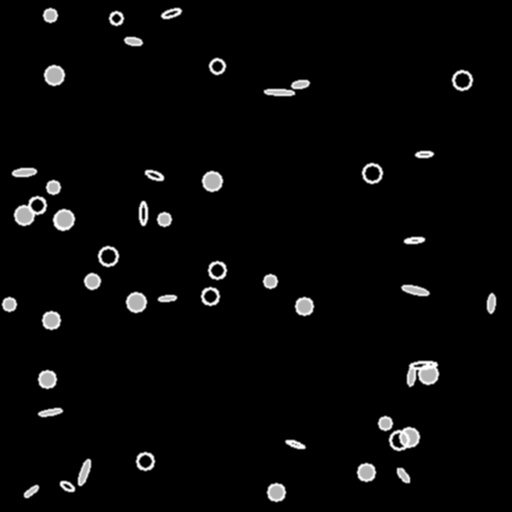pseudomonas: (76, 458, 92, 486), (402, 284, 428, 296), (144, 169, 164, 181), (161, 7, 181, 19), (59, 479, 75, 493), (396, 467, 410, 483), (23, 484, 39, 498), (410, 361, 436, 369), (285, 439, 305, 449), (39, 408, 61, 416), (13, 168, 35, 176), (265, 89, 293, 95), (487, 293, 495, 313), (407, 366, 415, 386), (124, 37, 142, 45), (291, 80, 309, 88), (140, 202, 146, 224), (405, 237, 423, 243), (159, 295, 175, 301), (416, 151, 432, 157)
synechocystis: (400, 428, 418, 446), (15, 206, 33, 224), (54, 211, 72, 229), (419, 365, 437, 383), (203, 172, 221, 190), (127, 293, 145, 311), (453, 71, 471, 89), (45, 66, 63, 84), (55, 210, 73, 228), (99, 247, 117, 265), (363, 164, 381, 182), (390, 431, 408, 449), (202, 288, 218, 304), (268, 484, 284, 500), (358, 464, 374, 480), (39, 371, 55, 387), (29, 197, 45, 213), (296, 298, 312, 314), (209, 262, 225, 278), (137, 453, 153, 469), (43, 312, 59, 328), (210, 59, 224, 73), (85, 274, 99, 288), (47, 181, 59, 193), (3, 298, 15, 310), (110, 12, 122, 24), (44, 9, 56, 21), (264, 275, 276, 287), (379, 417, 391, 429), (158, 213, 170, 225)
